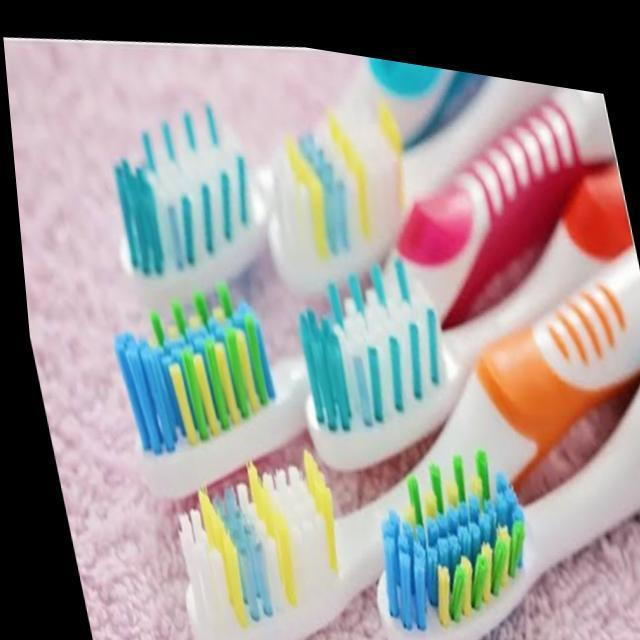toothbrush: (107, 69, 615, 498), (162, 212, 640, 640), (294, 147, 631, 467), (106, 44, 482, 307), (364, 356, 640, 640), (262, 59, 556, 288)
